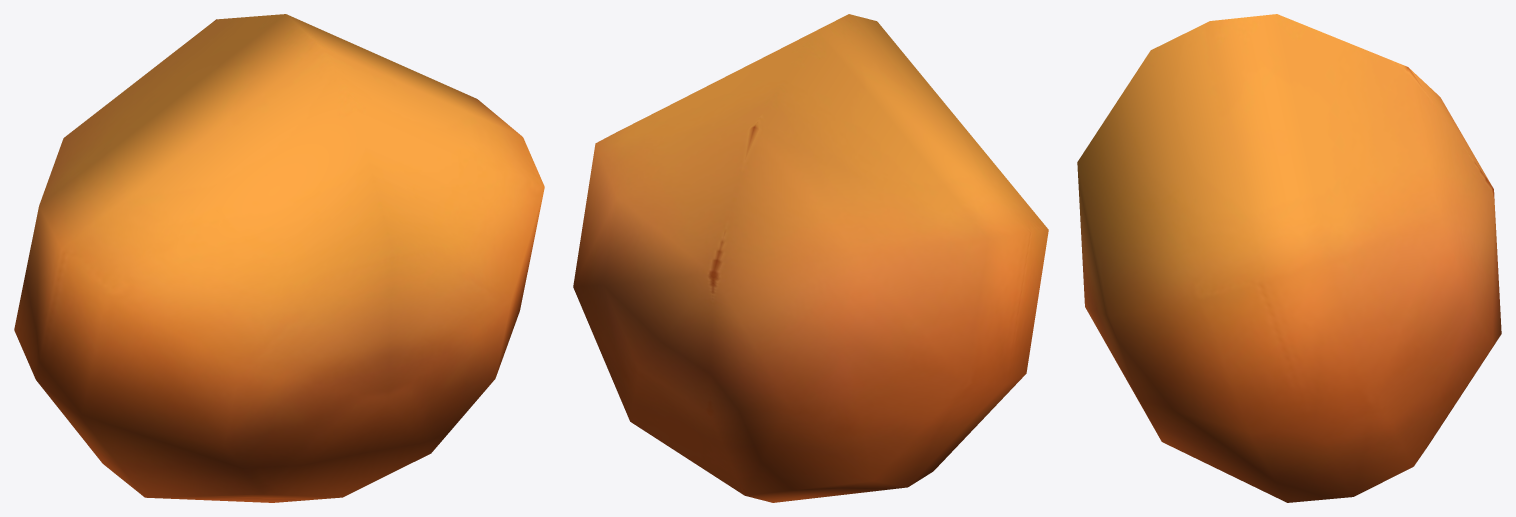
Rendered from hair_afro2_mesh.fbx.
3 views of the same model, side by side, from view 1: azimuth 30°, elevation 25°; view 2: azimuth 150°, elevation 25°; view 3: azimuth 270°, elevation 25° (orthographic). The views are drawn at different scales.
Parts seen in each view (by area): view 1: hair_afro2_mesh; view 2: hair_afro2_mesh; view 3: hair_afro2_mesh.
Boxes of the visible parts, bbox=[...] form: hair_afro2_mesh: bbox=[14, 14, 544, 502]; hair_afro2_mesh: bbox=[573, 14, 1048, 502]; hair_afro2_mesh: bbox=[1077, 14, 1501, 502].
Bounding box in the file's own units: 26.74 × 27.63 × 22.7.
